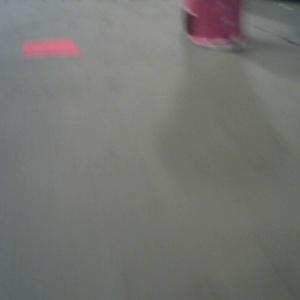right: (180, 1, 245, 51)
